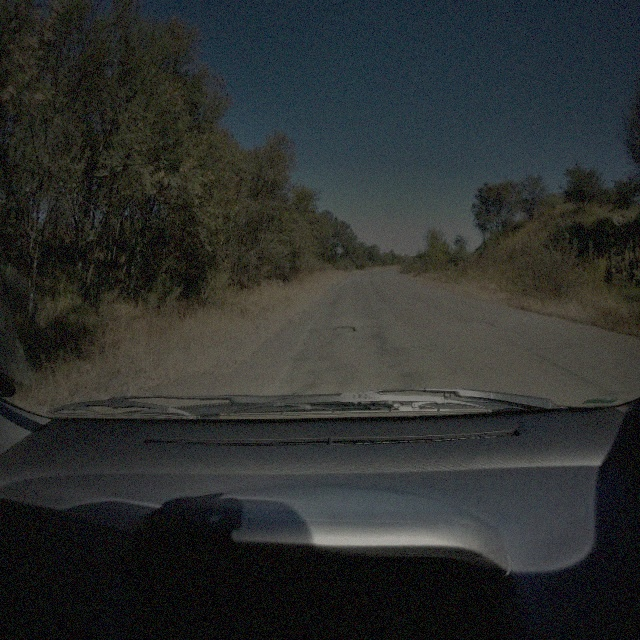pothole: (332, 322, 357, 336)
